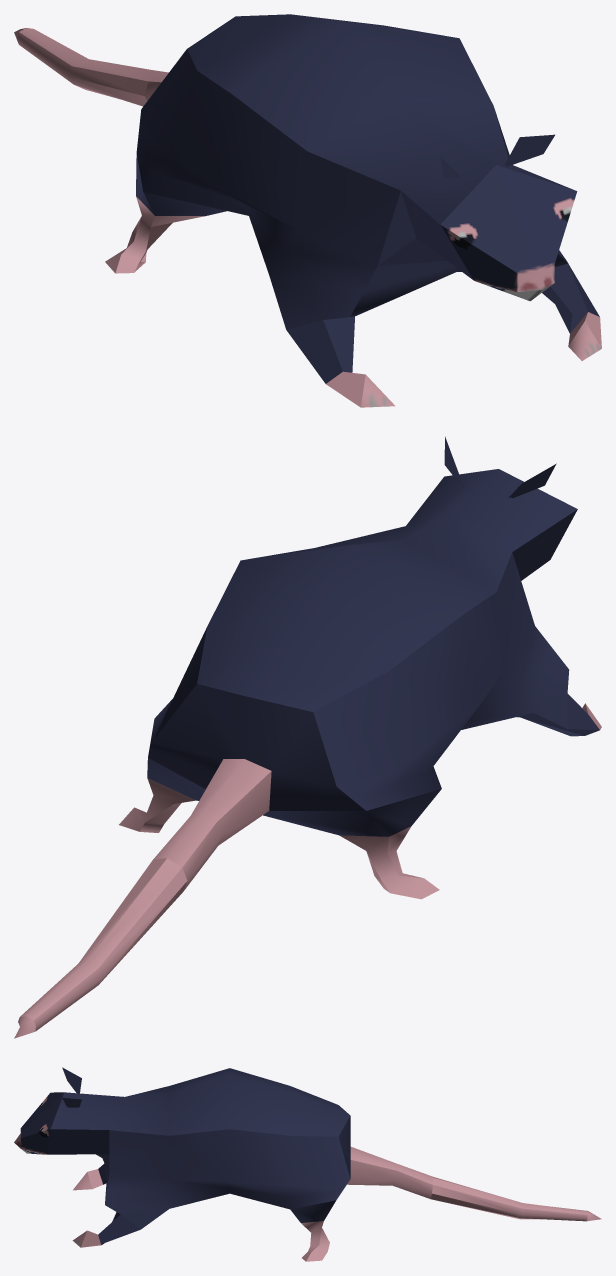
File: Rata.fbx
3 renders of one model, top to bottom at view 1: azimuth 30°, elevation 25°; view 2: azimuth 150°, elevation 25°; view 3: azimuth 270°, elevation 25°, orthographic. The views are drawn at different scales.
Visible parts, largest first — view 1: Rata_geo, Orejas_geo; view 2: Rata_geo, Orejas_geo; view 3: Rata_geo, Orejas_geo.
Part boxes in pixels (<box>): Rata_geo: <box>14,14,601,407</box>; Orejas_geo: <box>440,134,554,178</box>; Rata_geo: <box>14,469,601,1038</box>; Orejas_geo: <box>444,436,556,497</box>; Rata_geo: <box>14,1068,601,1261</box>; Orejas_geo: <box>62,1067,81,1107</box>.
Size of the model in its own units: 1.78 by 1.4 by 5.17.
Materials: 2 (2 with a texture image).
